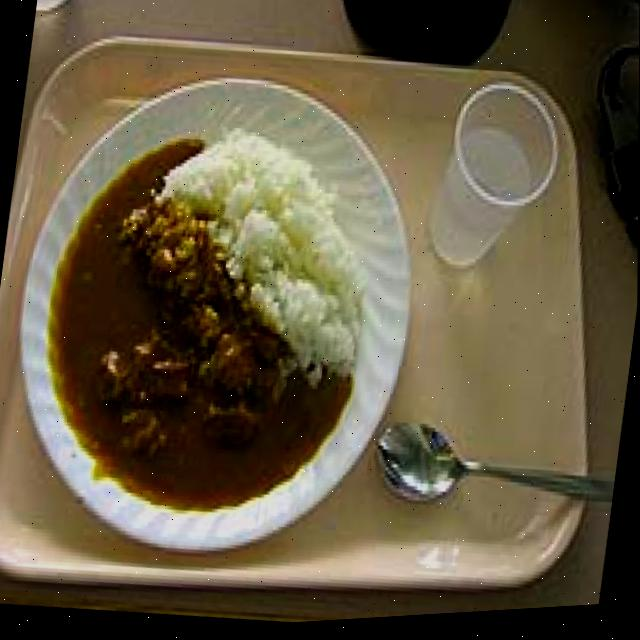牛肉菜式: (0, 35, 439, 586)
